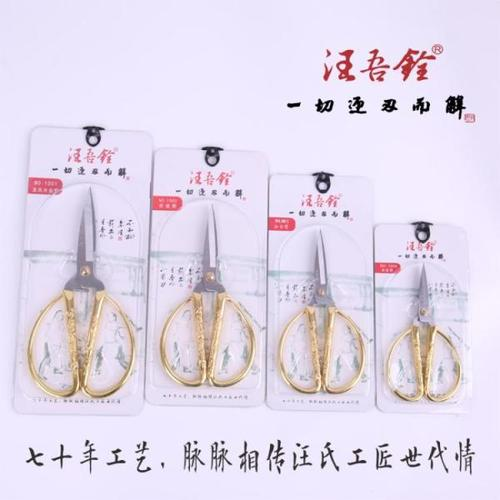scissor: (30, 186, 135, 396), (160, 203, 257, 387), (280, 229, 366, 396), (385, 264, 463, 404)
